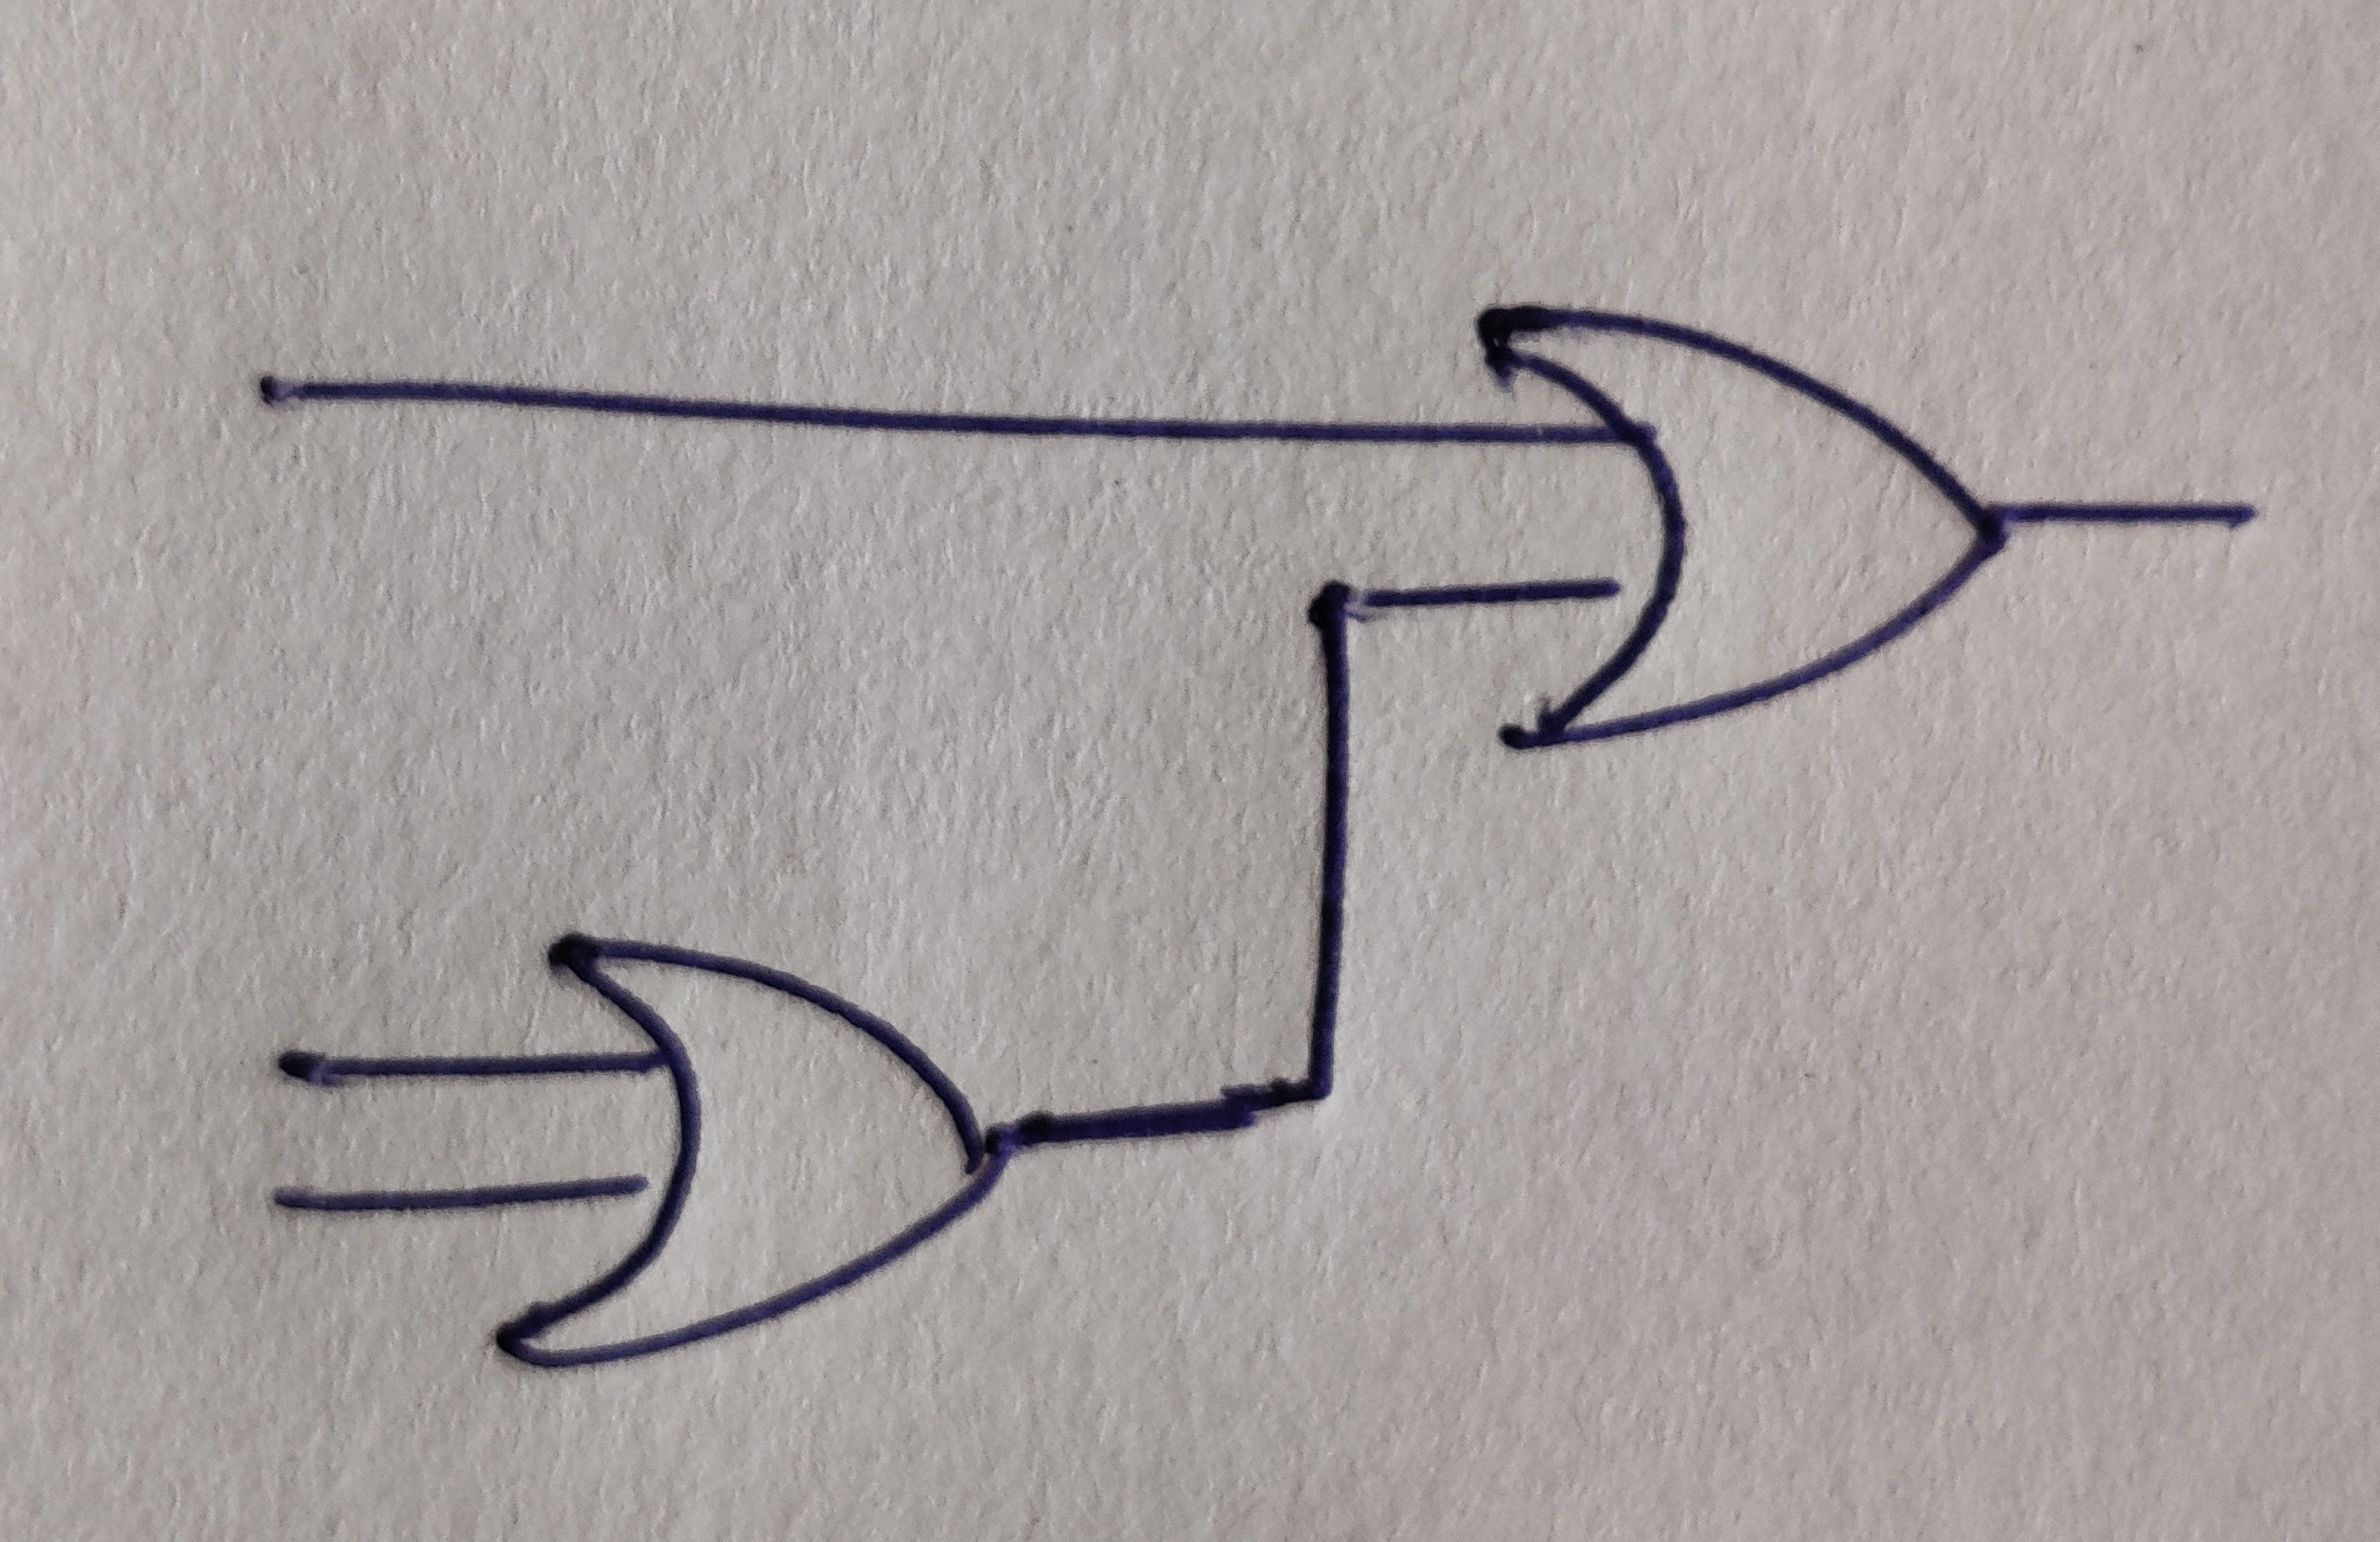or: (1476, 305, 2009, 749), (494, 935, 1013, 1370)
